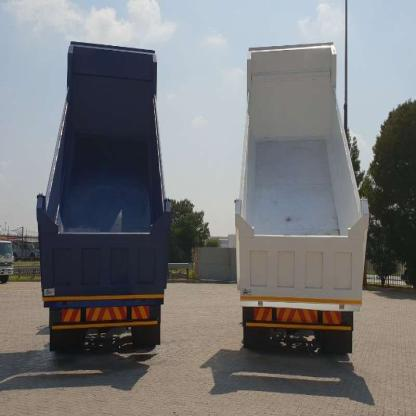dump_truck: (221, 27, 372, 371), (30, 28, 173, 358)
